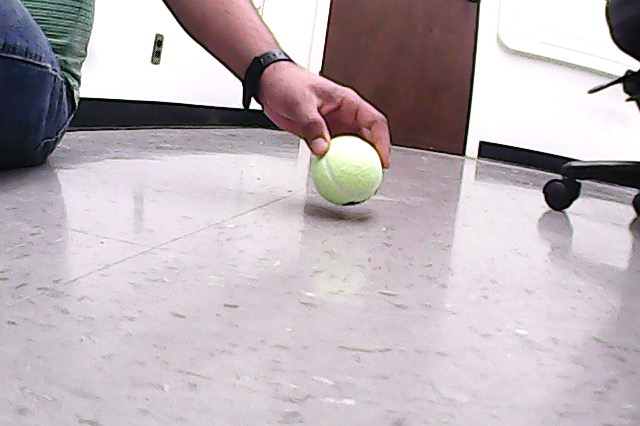ball: (309, 132, 386, 210)
